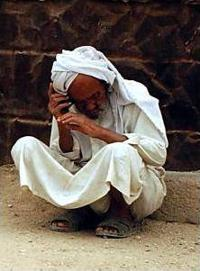person: (11, 46, 168, 240)
